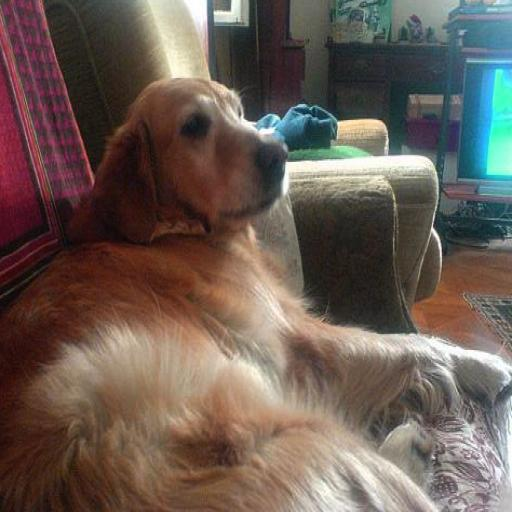dog_face: (102, 77, 286, 247)
